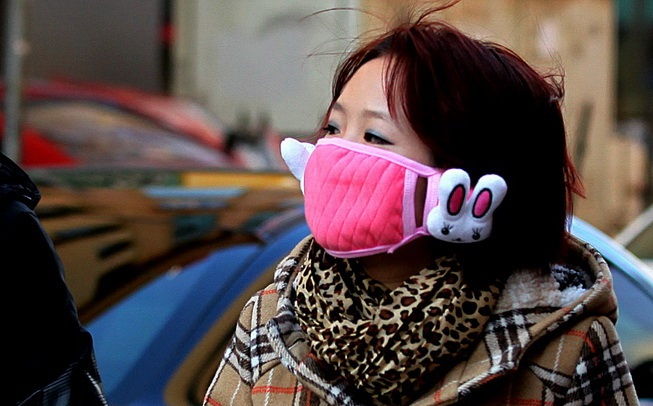face_mask: (303, 60, 435, 260)
